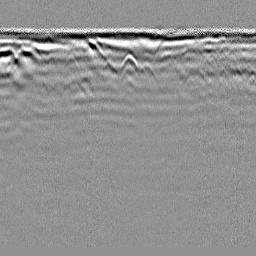cavity: (118, 50, 139, 73)
